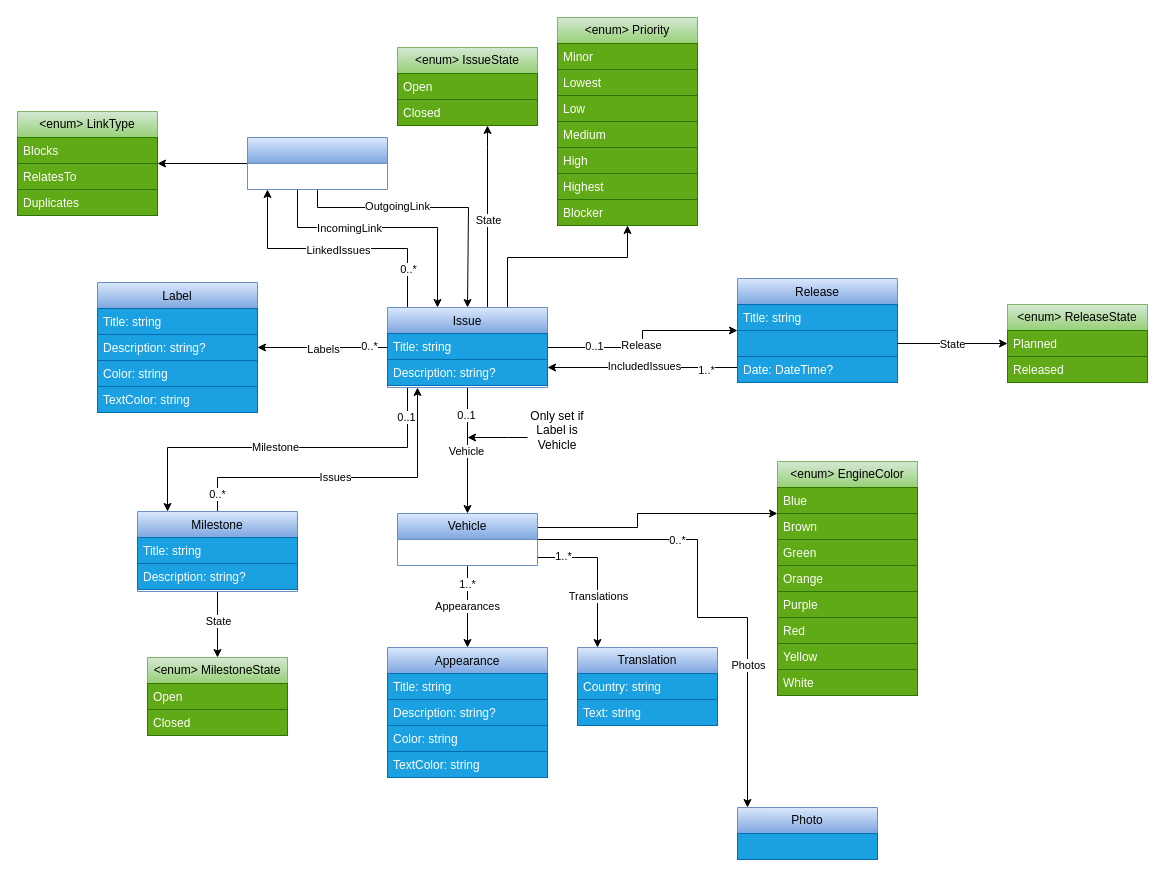
This 1165x880 diagram has some shape labels left out. The centre of each missing label's shape, as x and y in pixels:
"FilePath: string" goes at point 807,846.
"IssueLink" goes at point 317,163.
"Notes: string?" goes at point 817,343.
